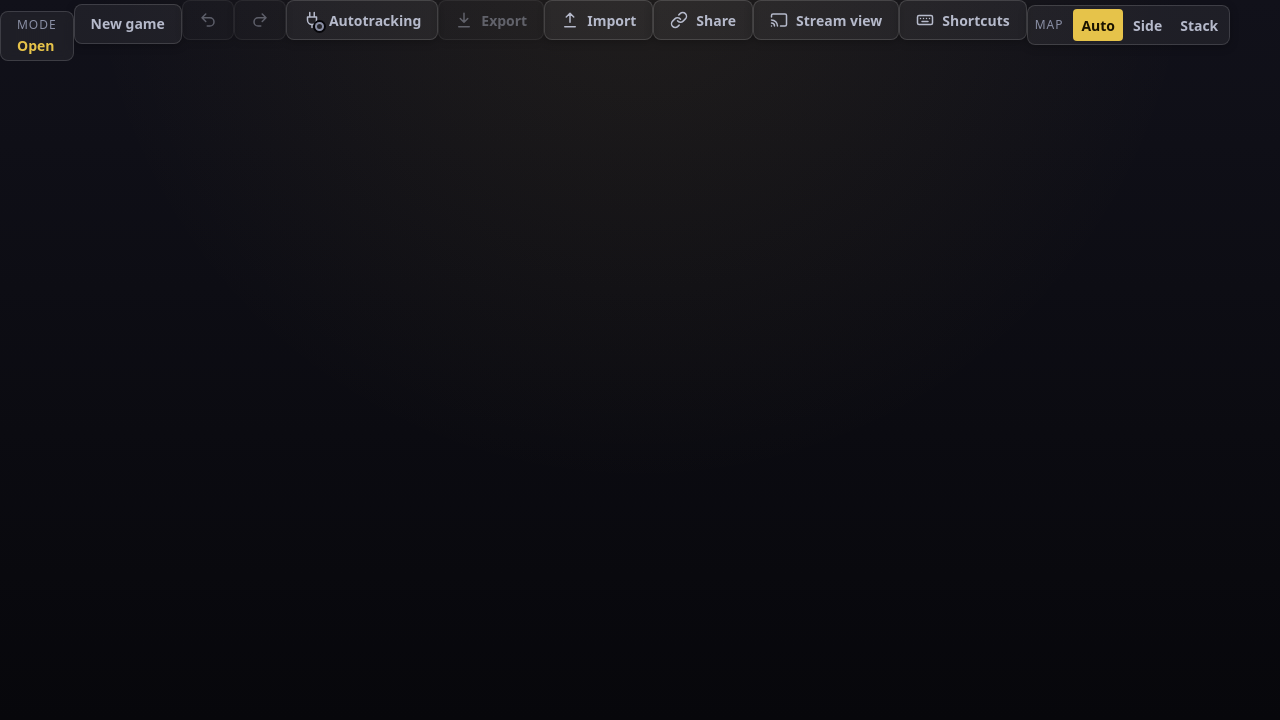
Test: Share in the desktop app during Race Mode › A Link to the Past: no link, live follow reachable, Export off
Click the button with test id "share-button": (703, 20) [653, 0, 753, 40]
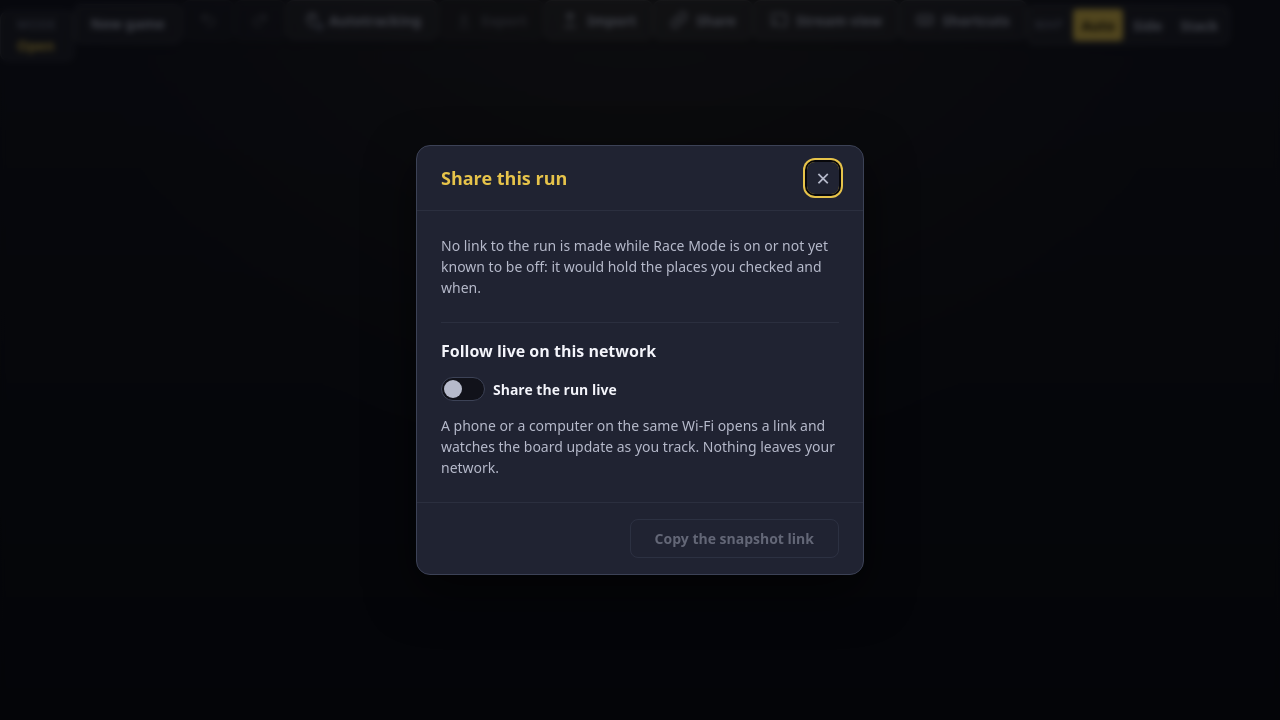
Expected: the dialog "Share this run" shows "No link to the run is made while Race Mode is on or not yet known to be off: it would hold the places you checked and when.", [441, 236, 828, 297]
